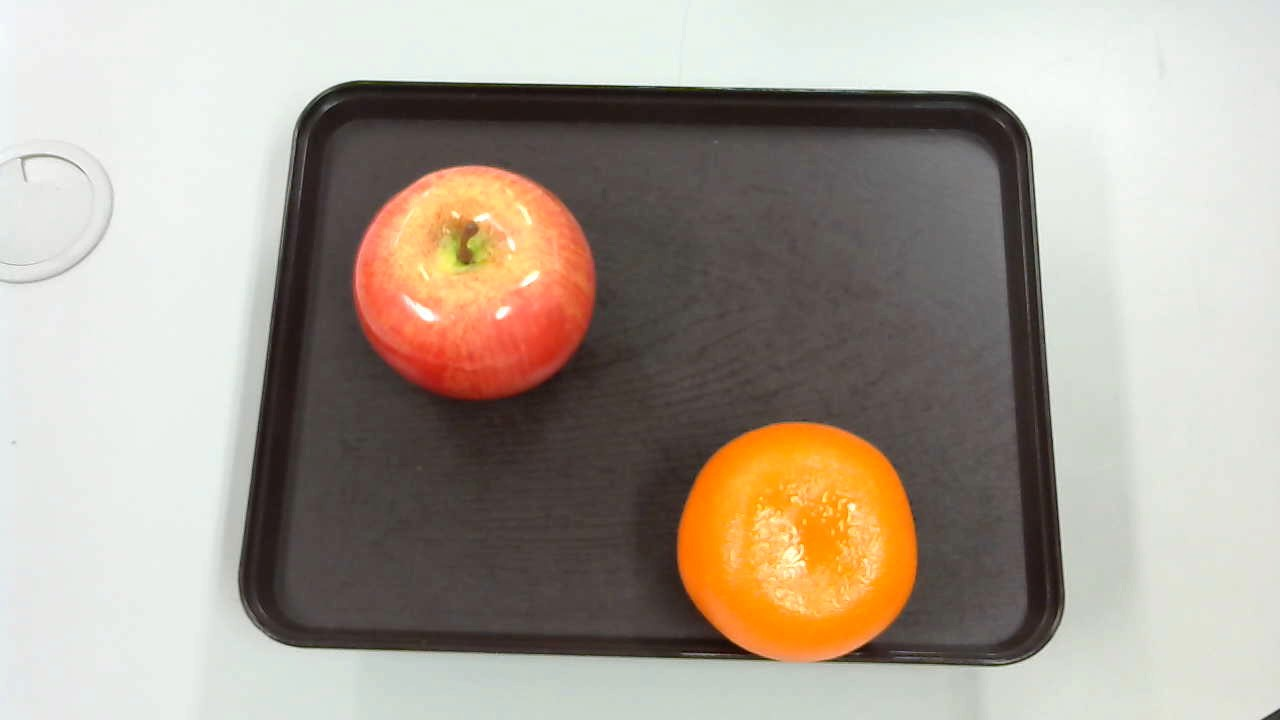orange: (670, 416, 916, 663)
red apple: (352, 163, 595, 400)
